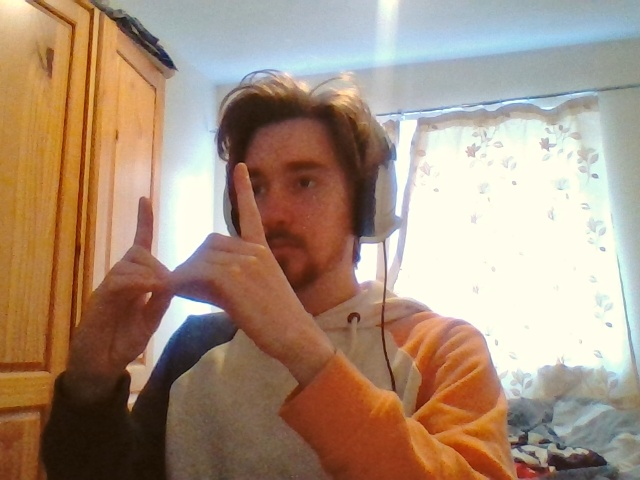meet: (118, 163, 257, 298)
